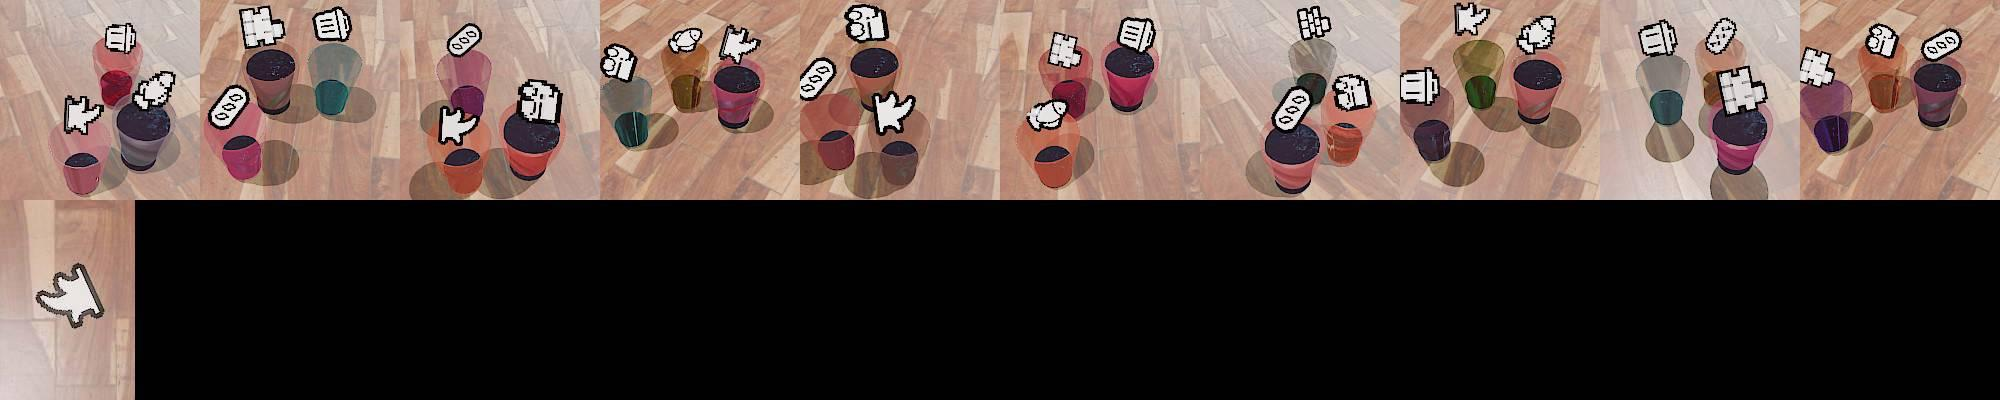icon: (36, 259, 114, 331), (1717, 66, 1768, 115), (517, 78, 564, 124), (239, 5, 288, 48), (870, 89, 916, 135), (207, 83, 250, 130), (1270, 85, 1312, 132), (717, 23, 761, 66), (133, 71, 177, 113), (439, 106, 482, 148), (1515, 14, 1559, 56), (844, 4, 888, 45), (797, 56, 837, 101), (1330, 71, 1372, 112), (62, 93, 102, 136), (1638, 18, 1679, 57), (1798, 47, 1837, 87), (1116, 17, 1156, 55), (1399, 68, 1437, 106), (601, 43, 638, 83), (1046, 31, 1083, 70), (311, 6, 351, 43), (1026, 97, 1068, 131), (1296, 4, 1333, 42), (1920, 28, 1960, 62), (1454, 1, 1491, 38), (446, 22, 482, 59), (1705, 17, 1739, 55), (1866, 23, 1899, 59), (105, 22, 136, 54), (668, 27, 704, 55)
